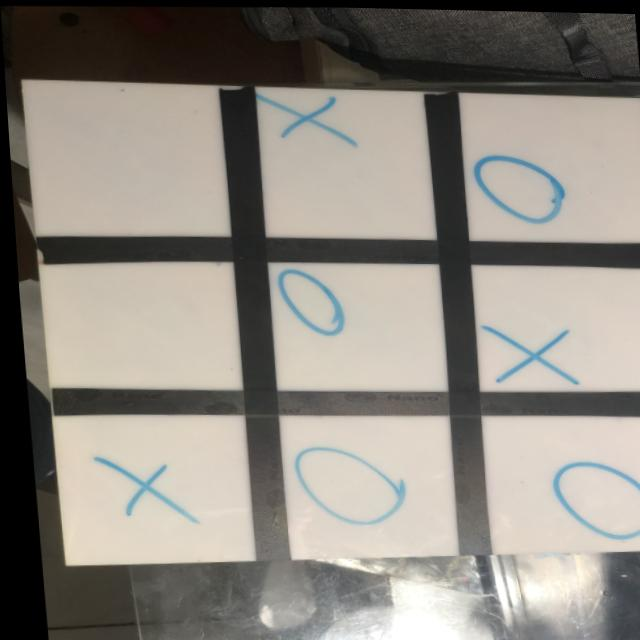null: (22, 79, 226, 234), (36, 259, 240, 391)
o: (284, 442, 402, 522), (541, 456, 640, 541), (469, 144, 568, 225), (270, 264, 347, 340)
table: (22, 77, 640, 566)
x: (88, 453, 190, 527), (483, 314, 570, 383)
